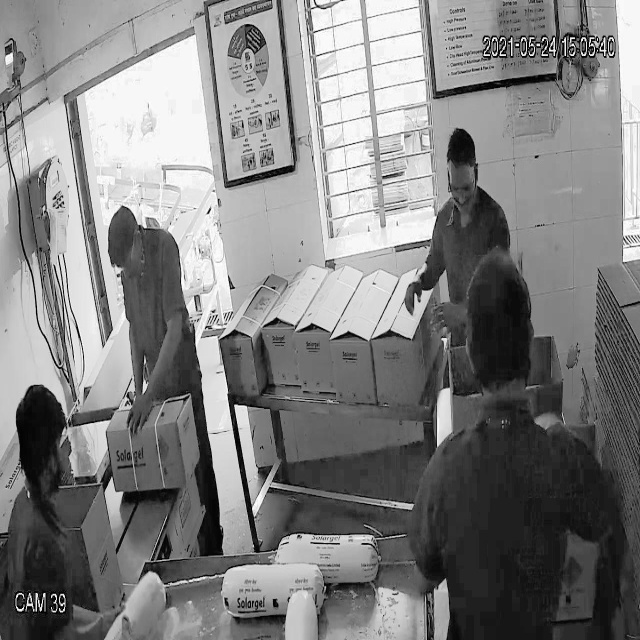Gafas: (447, 168, 478, 205)
